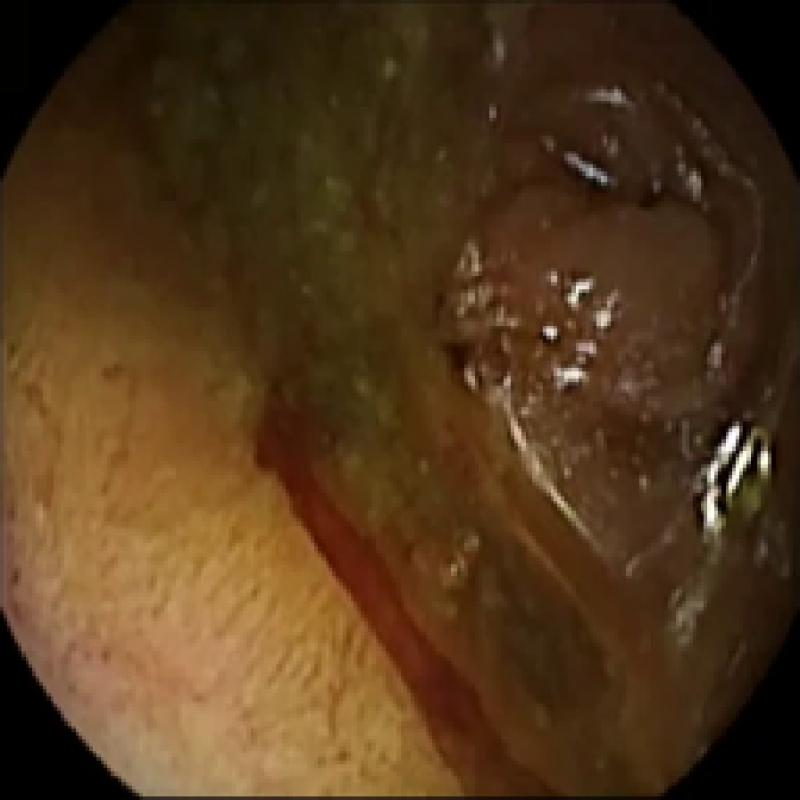bleeding: (250, 396, 536, 790)
